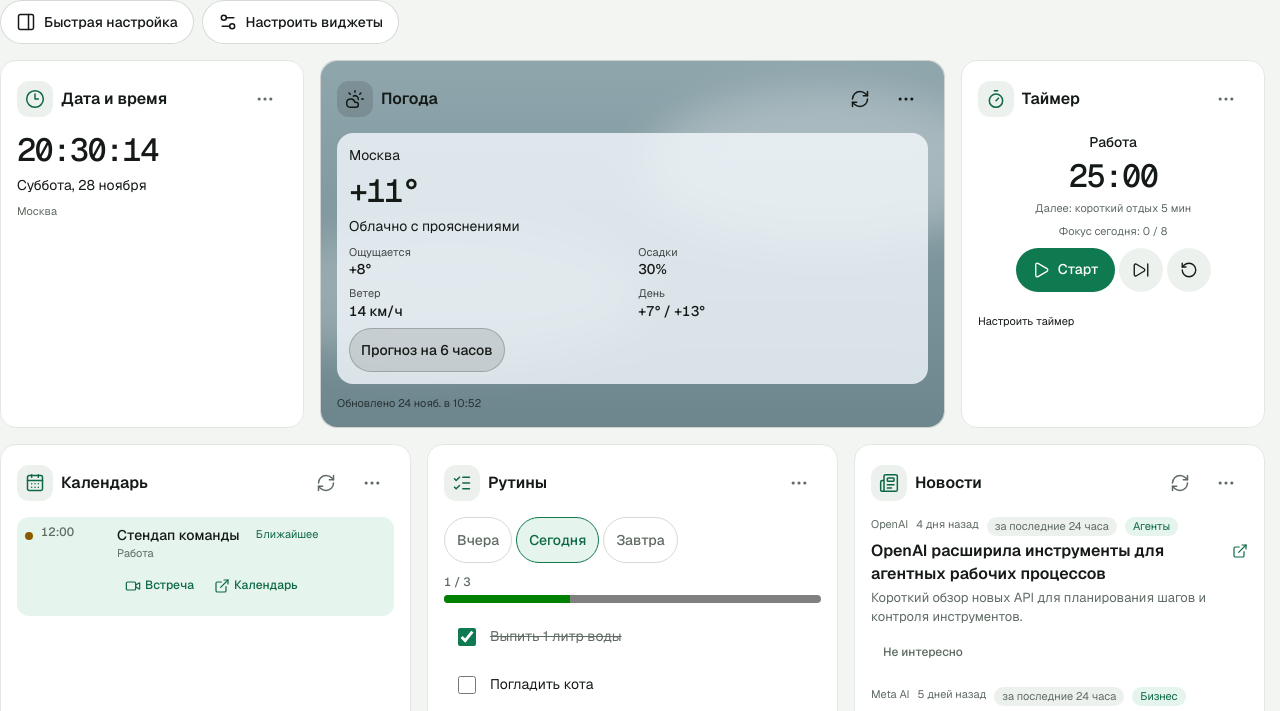
Scenario: редактор виджетов на дашборде › сразу применяет видимость, температуру и источники к сетке
Later steps or results of the test are not shown.
Click the button "Быстрая настройка" at (97, 22), box top-left (0, 0), bottom-right (194, 44)
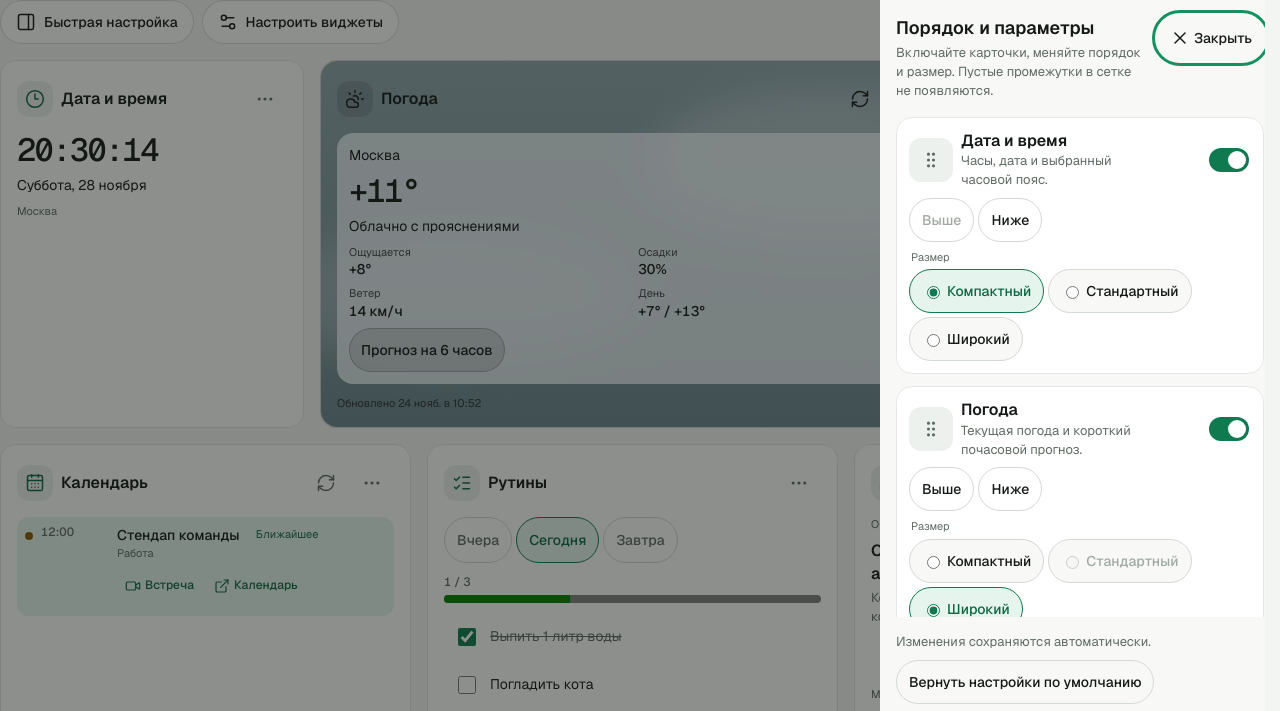
Click the switch named "Показывать «Погода»" at (1229, 429), box top-left (1209, 417), bottom-right (1249, 441)
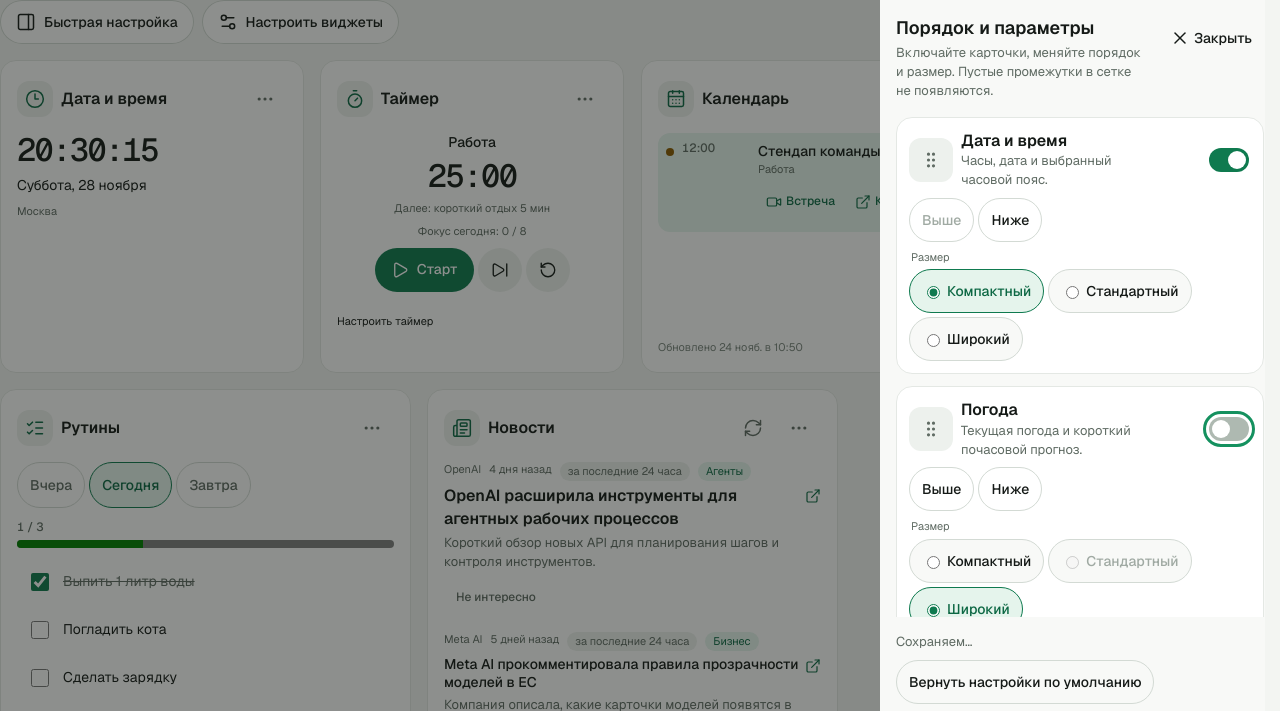
Expected: the element "Дата и время" is shown, top-left (0, 60), bottom-right (304, 373)
Click the switch named "Показывать «Погода»" at (1229, 429), box top-left (1209, 417), bottom-right (1249, 441)
(page scrolled)
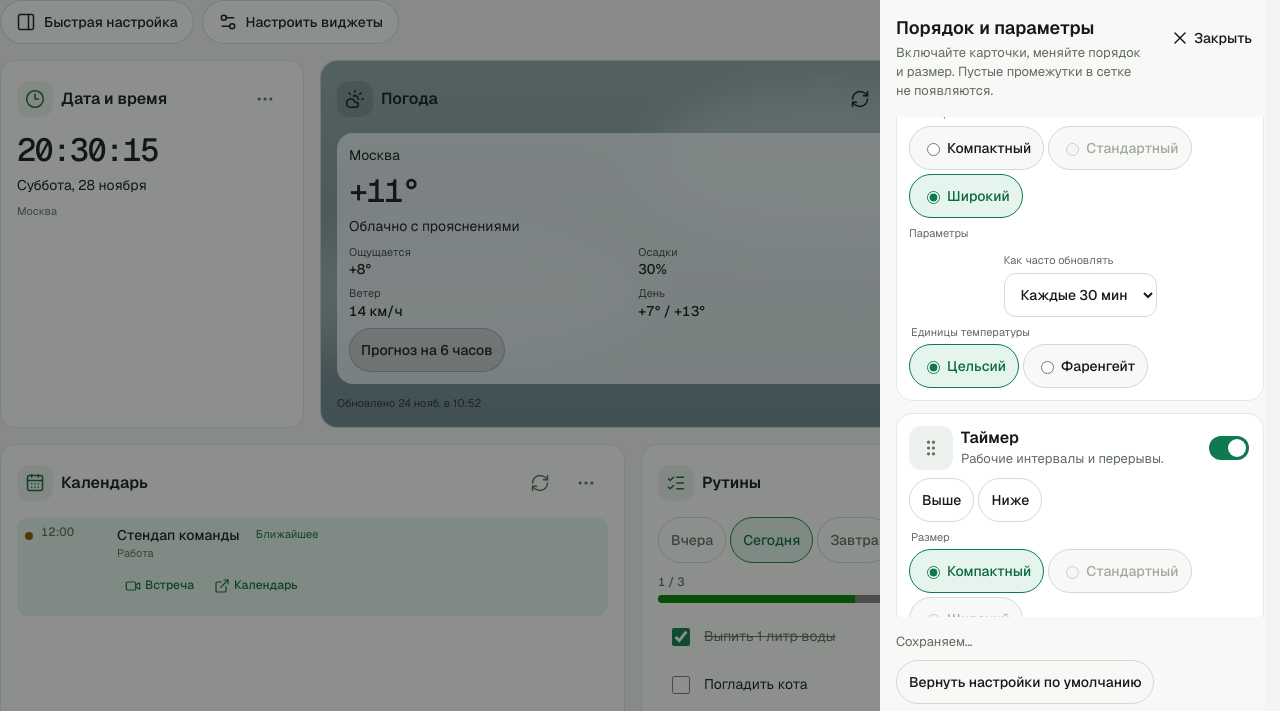
Click the radio button labelled "Фаренгейт" at (1048, 367), box top-left (1041, 361), bottom-right (1054, 374)
(page scrolled)
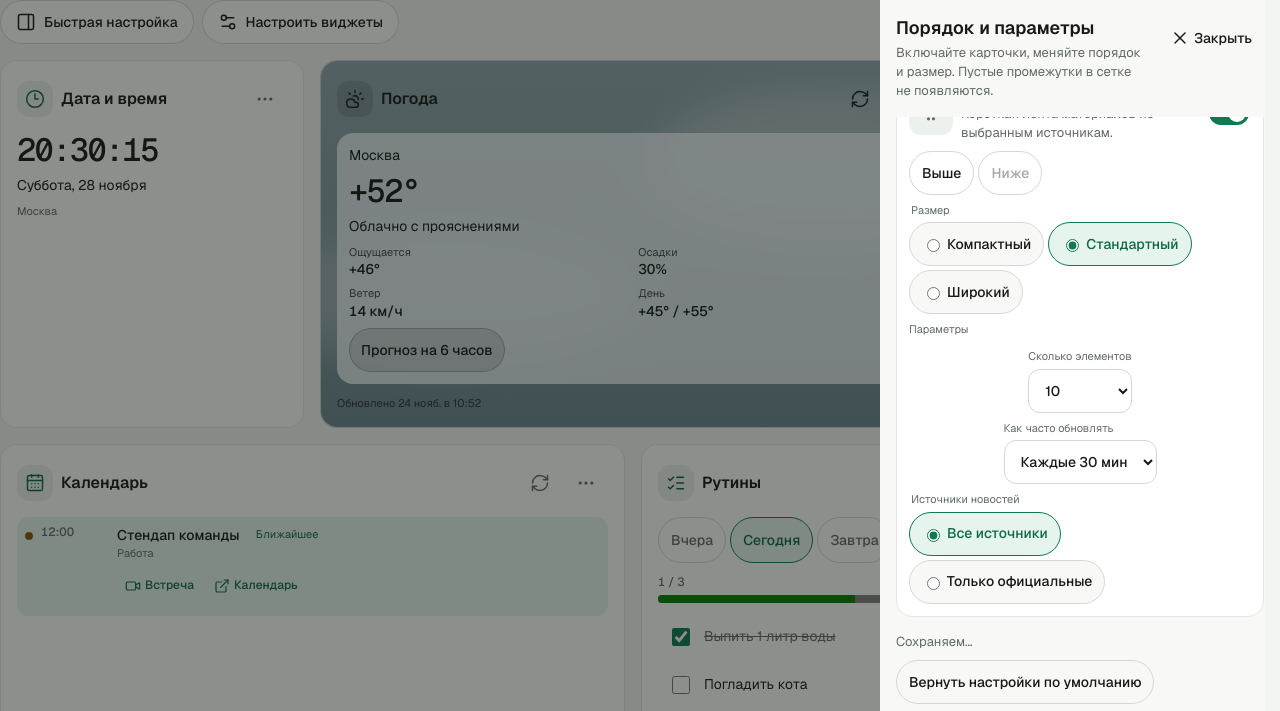
Now the text "+52°" is shown, box top-left (349, 170), bottom-right (420, 211)
